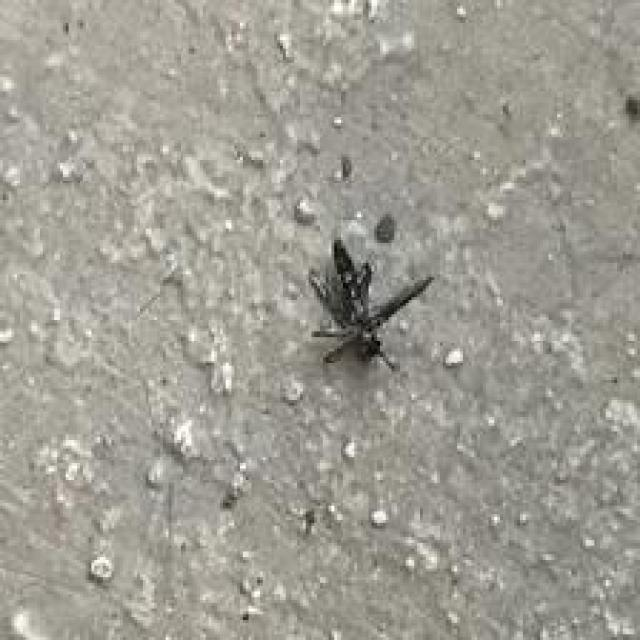Aedes albopictus: (306, 237, 434, 374)
